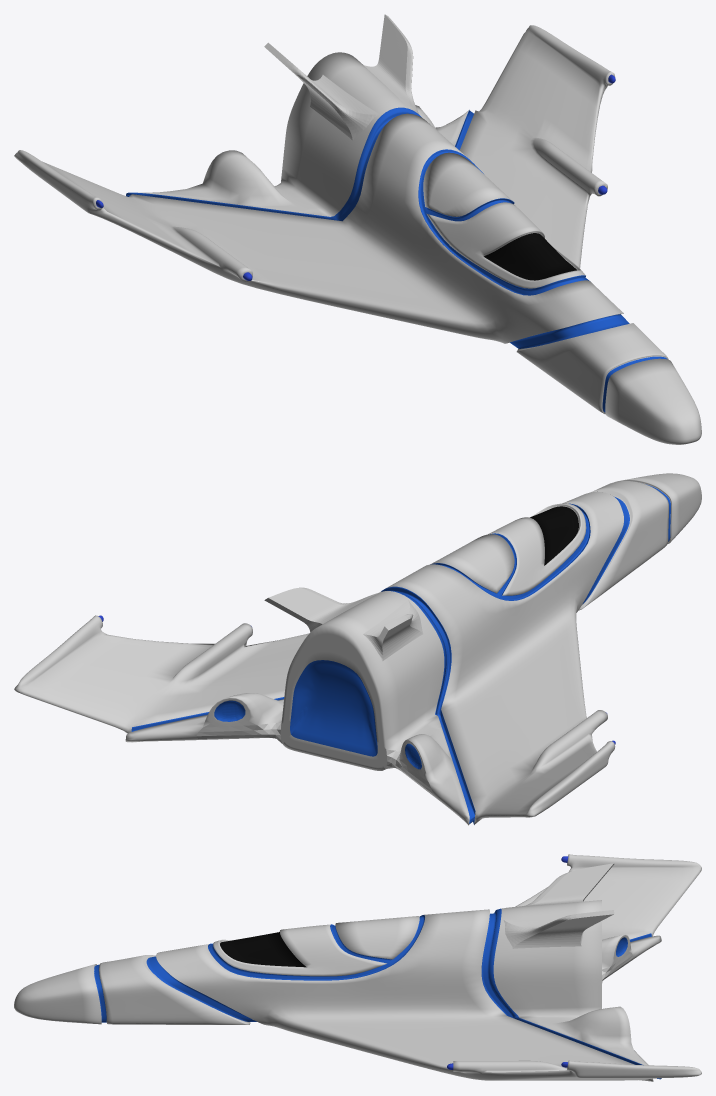
The model's file is ship.obj.
3 views of the same model, one above another, from view 1: azimuth 30°, elevation 25°; view 2: azimuth 150°, elevation 25°; view 3: azimuth 270°, elevation 25° (orthographic). The views are drawn at different scales.
Parts seen in each view (by area): view 1: Cube_Cube.001_Aluminum, Cube_Cube.001_BlueS, Cube_Cube.001_Window; view 2: Cube_Cube.001_Aluminum, Cube_Cube.001_BlueS, Cube_Cube.001_Window; view 3: Cube_Cube.001_Aluminum, Cube_Cube.001_BlueS, Cube_Cube.001_Window.
Boxes of the visible parts, x1,y1,x2,y2 form: Cube_Cube.001_Aluminum: [14, 14, 701, 444]; Cube_Cube.001_BlueS: [126, 107, 667, 412]; Cube_Cube.001_Window: [483, 233, 576, 280]; Cube_Cube.001_Aluminum: [14, 473, 701, 825]; Cube_Cube.001_BlueS: [131, 484, 670, 824]; Cube_Cube.001_Window: [530, 506, 578, 565]; Cube_Cube.001_Aluminum: [14, 854, 701, 1081]; Cube_Cube.001_BlueS: [94, 908, 661, 1079]; Cube_Cube.001_Window: [220, 932, 306, 967].
Bounding box in the file's own units: 6.93 × 1.96 × 9.64.
